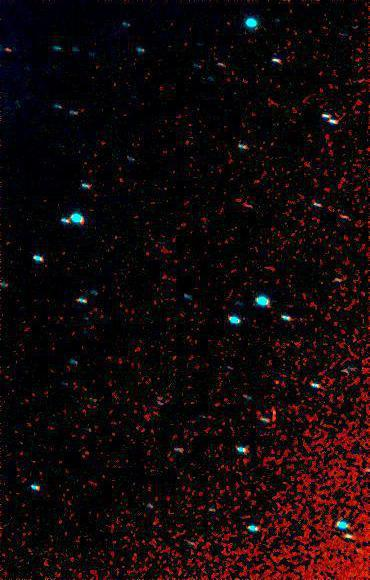star: (0, 34, 26, 64)
